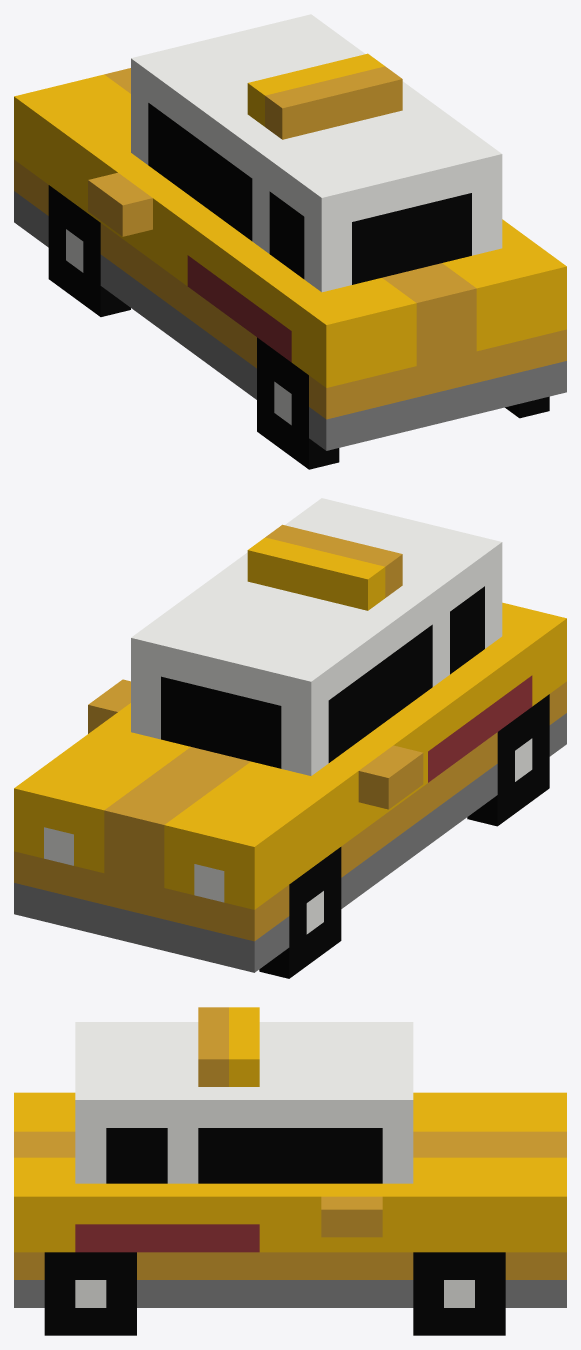
Rendered from Car2.obj.
3 views of the same model, one above another, from view 1: azimuth 30°, elevation 25°; view 2: azimuth 150°, elevation 25°; view 3: azimuth 270°, elevation 25° (orthographic). The views are drawn at different scales.
Size of the model in its own units: 1 by 0.9 by 1.8.
1 material, 1 textured.
